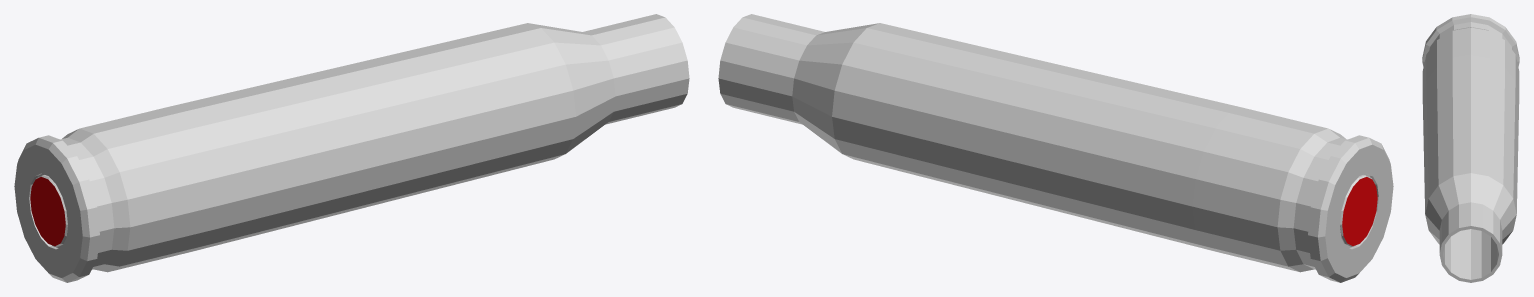
The model's file is RifleShell.fbx.
3 renders of one model, left to right at view 1: azimuth 30°, elevation 25°; view 2: azimuth 150°, elevation 25°; view 3: azimuth 270°, elevation 25°, orthographic. The views are drawn at different scales.
Visible parts, largest first — view 1: HandgunRound; view 2: HandgunRound; view 3: HandgunRound.
Boxes of the visible parts, <box> form: HandgunRound: <box>14,14,689,282</box>; HandgunRound: <box>718,14,1393,282</box>; HandgunRound: <box>1422,14,1519,282</box>.
Bounding box in the file's own units: 0.0838 × 0.0175 × 0.0175.
